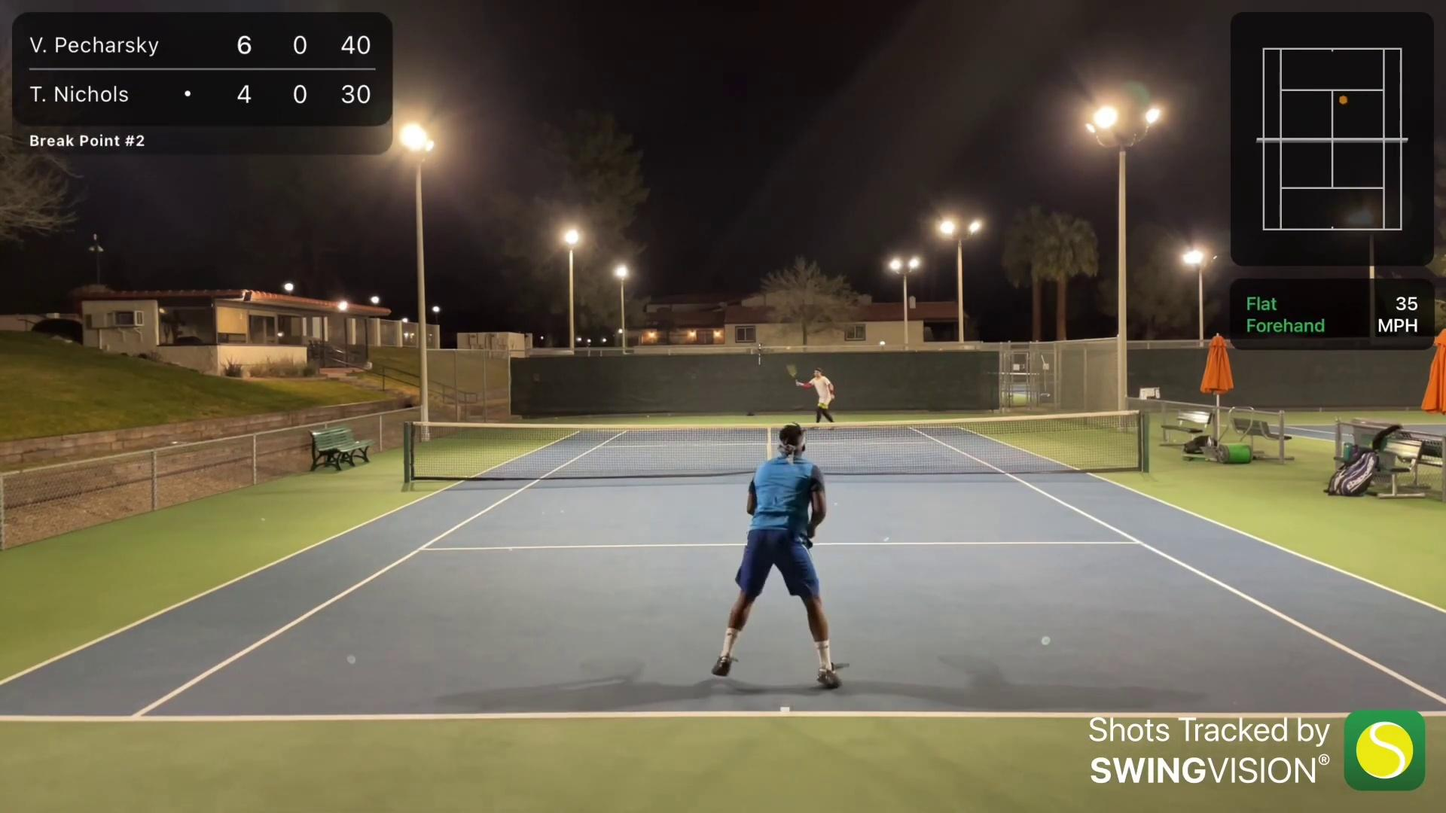ball: (785, 344, 792, 351)
